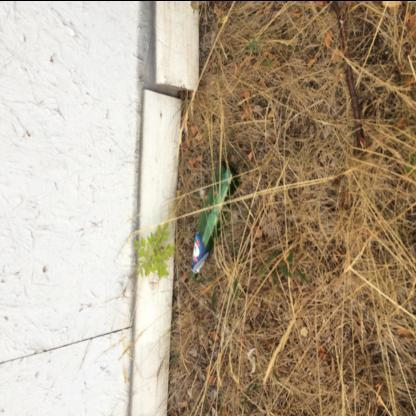cam: (190, 161, 237, 278)
